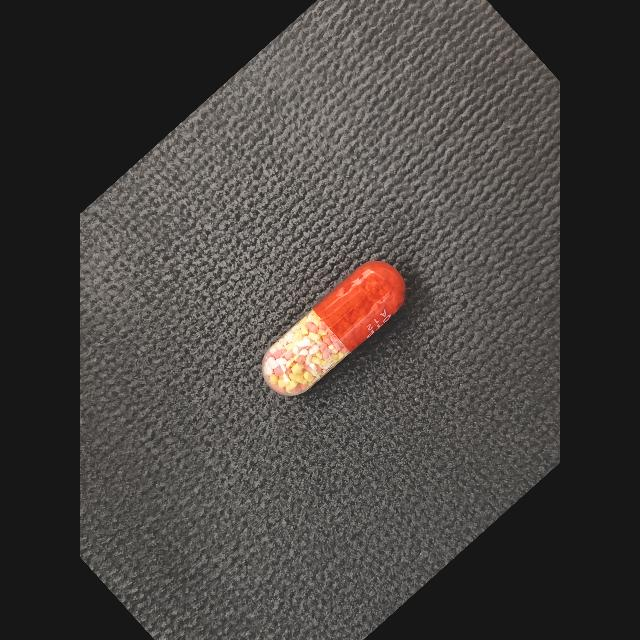Intact Capsule: (262, 261, 406, 396)
